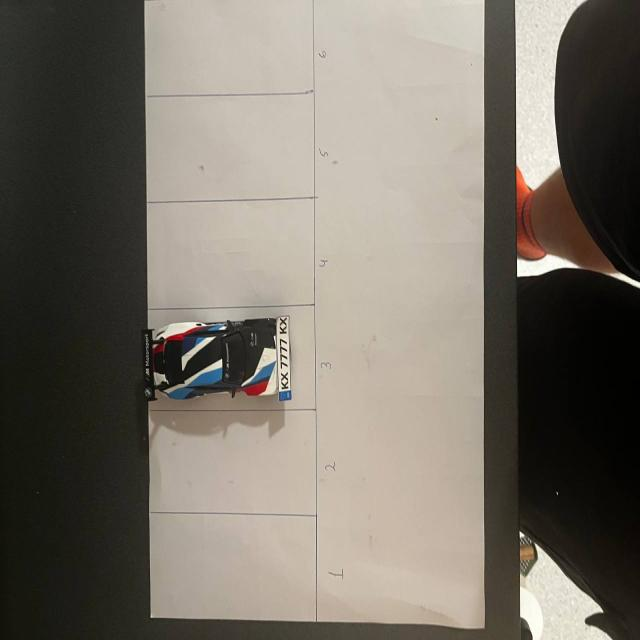cars: (141, 304, 317, 411)
